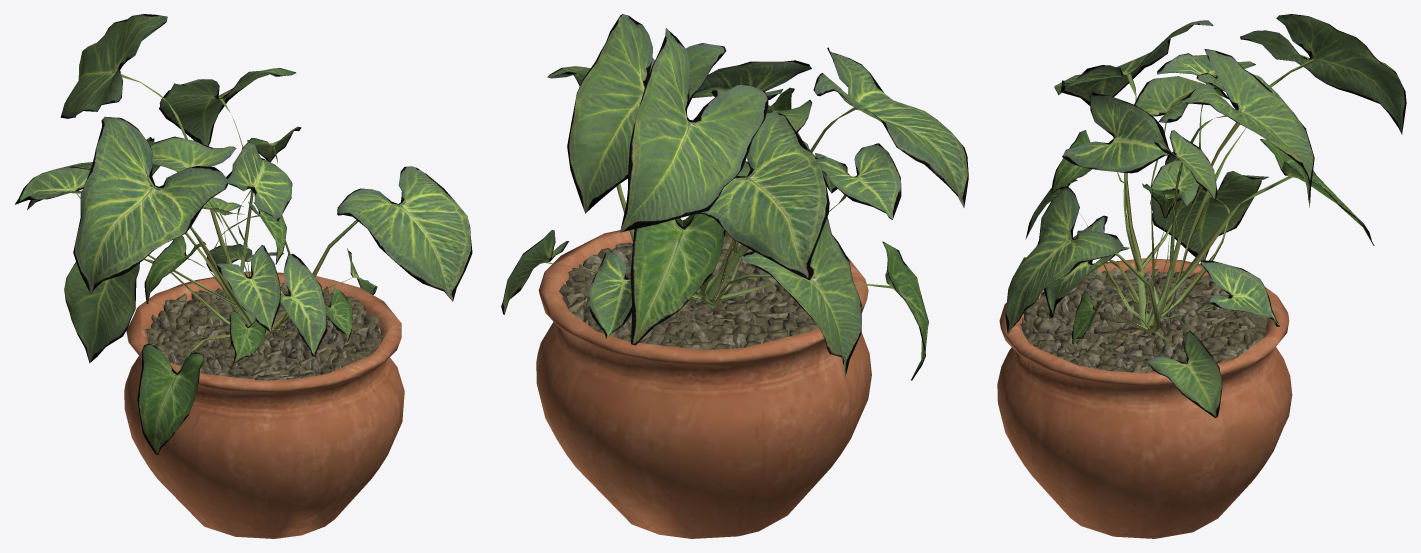
Rendered from plant-large.glb.
3 renders of one model, left to right at view 1: azimuth 30°, elevation 25°; view 2: azimuth 150°, elevation 25°; view 3: azimuth 270°, elevation 25°, orthographic. The views are drawn at different scales.
Visible parts, largest first — view 1: potted_plant_02_leaves, potted_plant_02_pot, potted_plant_02_dirt; view 2: potted_plant_02_leaves, potted_plant_02_pot, potted_plant_02_dirt; view 3: potted_plant_02_leaves, potted_plant_02_pot, potted_plant_02_dirt.
Boxes of the visible parts, box(x1,y1,x2,y2) form: potted_plant_02_leaves: box(15, 14, 472, 454); potted_plant_02_pot: box(124, 271, 404, 538); potted_plant_02_dirt: box(145, 283, 383, 380); potted_plant_02_leaves: box(501, 14, 968, 380); potted_plant_02_pot: box(536, 230, 871, 538); potted_plant_02_dirt: box(559, 232, 817, 349); potted_plant_02_leaves: box(1005, 14, 1406, 417); potted_plant_02_pot: box(997, 258, 1292, 538); potted_plant_02_dirt: box(1020, 268, 1267, 372).
Size of the model in its own units: 0.7009 by 0.8401 by 0.6561.
Materials: 2 (2 with a texture image).
